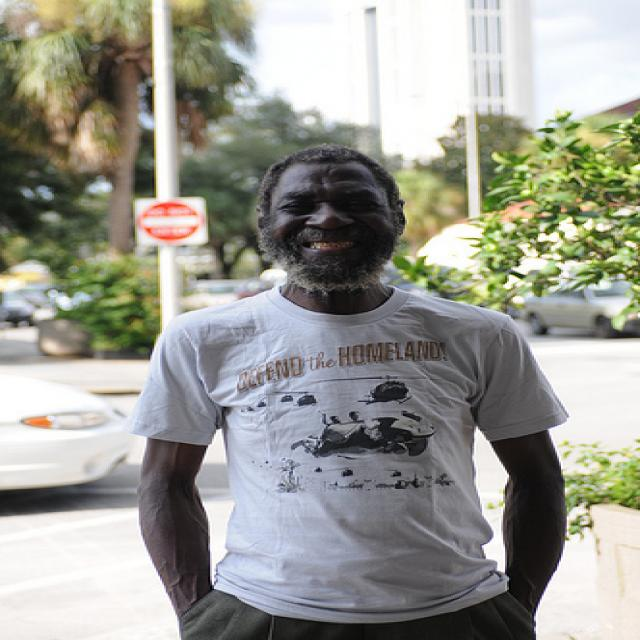T-shirt: (129, 288, 571, 626)
